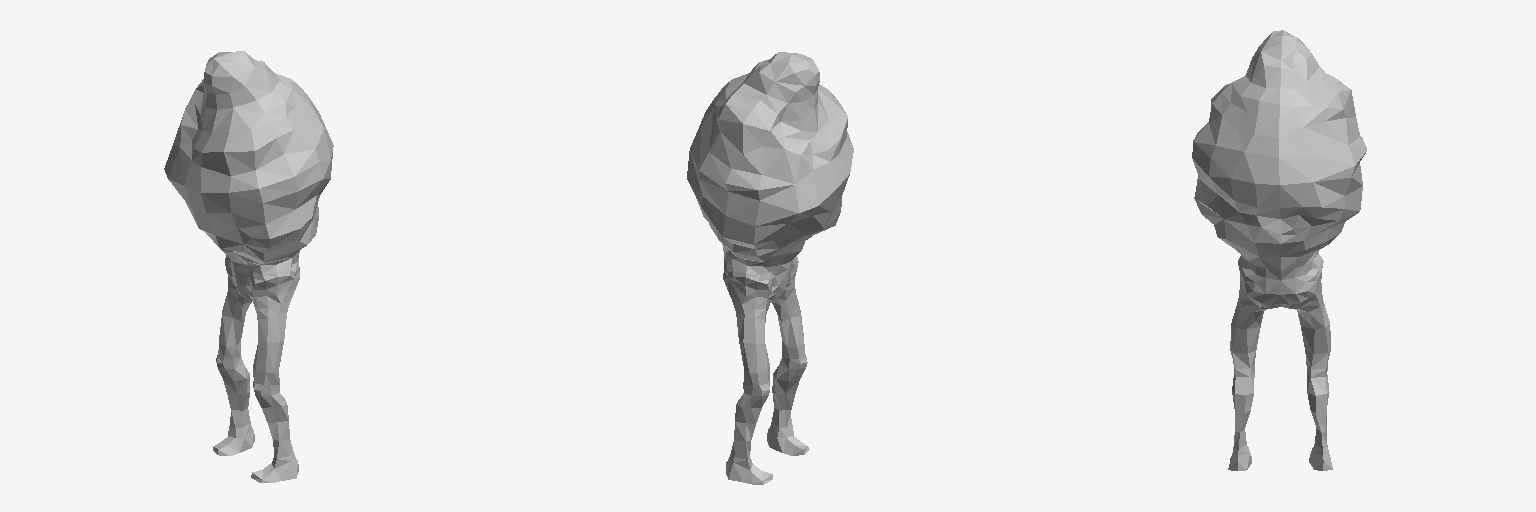
The model's file is flesh_creature_idle1.obj.
3 views of the same model, side by side, from view 1: azimuth 30°, elevation 25°; view 2: azimuth 150°, elevation 25°; view 3: azimuth 270°, elevation 25° (orthographic).
Parts seen in each view (by area): view 1: flesh_creature_(null); view 2: flesh_creature_(null); view 3: flesh_creature_(null).
Part boxes in pixels (left/top/right/bottom): flesh_creature_(null): left=164, top=51, right=333, bottom=482; flesh_creature_(null): left=687, top=52, right=853, bottom=484; flesh_creature_(null): left=1192, top=30, right=1366, bottom=470.
Size of the model in its own units: 1.27 by 3.56 by 1.36.